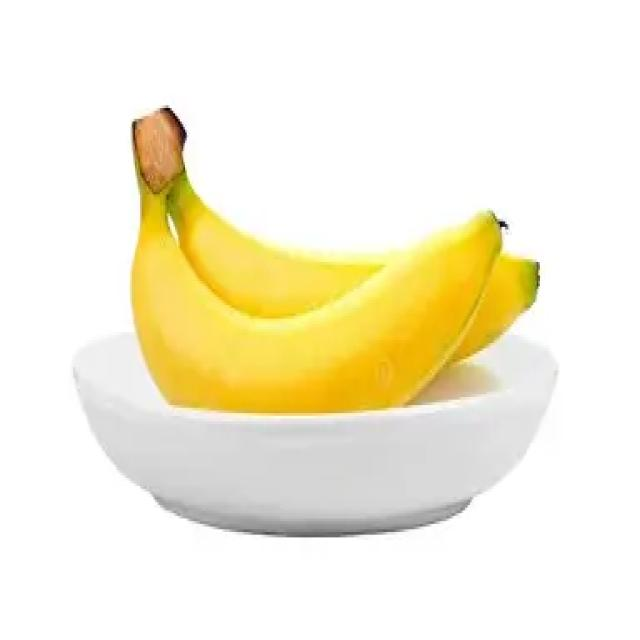BANANA: (130, 103, 540, 409)
